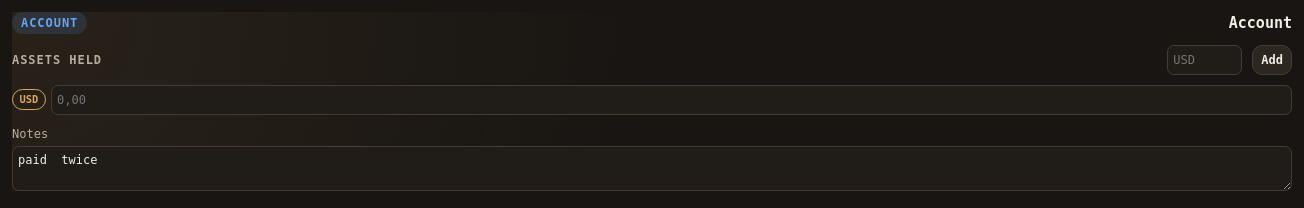
Scenario: notes › keeps a run of keystrokes together when the store answers late
Type "late" into the text box labelled "Notes".
click(652, 168); type("late")  # box top-left (12, 146), bottom-right (1292, 191)
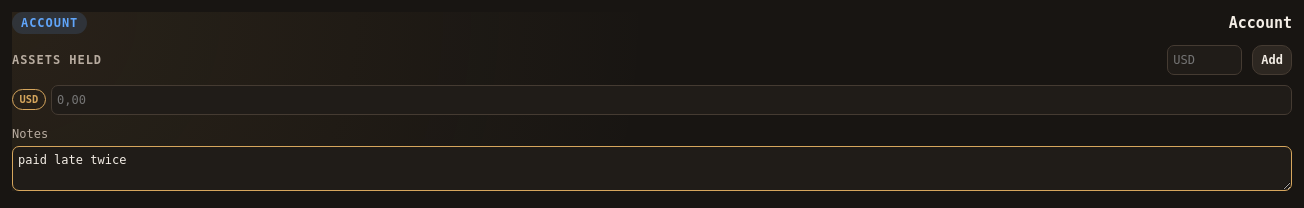
Now the text box labelled "Notes" holds "paid late twice", box top-left (12, 146), bottom-right (1292, 191)
